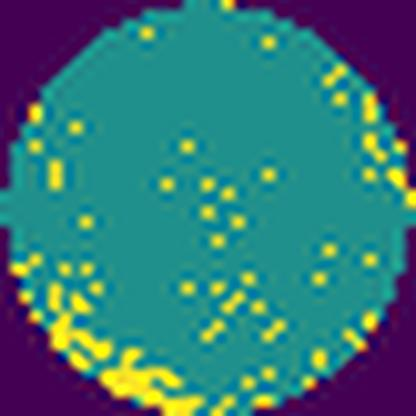Edge-Loc: (8, 249, 206, 415)
